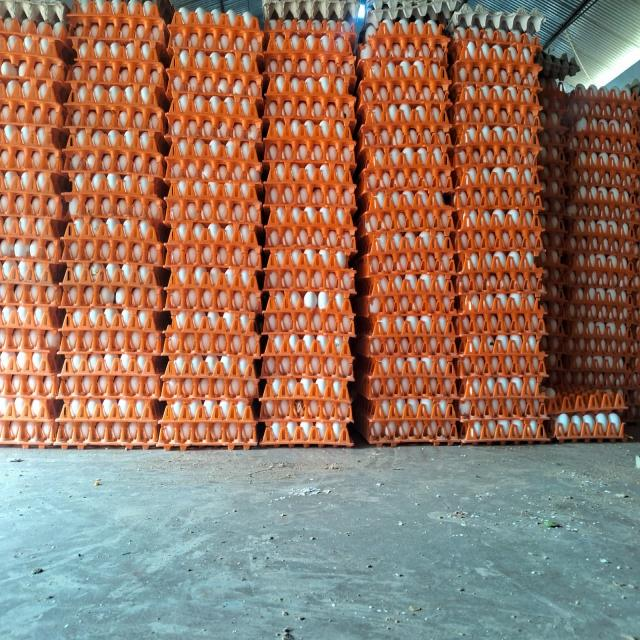egg_tray: (56, 6, 165, 446), (158, 11, 262, 447), (356, 21, 455, 442), (261, 21, 354, 444), (452, 31, 544, 441), (0, 19, 68, 445), (162, 159, 261, 445), (58, 173, 162, 445), (160, 180, 260, 447), (160, 182, 260, 446), (356, 191, 456, 441), (58, 217, 163, 445), (262, 205, 354, 443), (567, 88, 636, 387), (262, 205, 354, 421), (356, 243, 455, 437), (265, 120, 354, 333), (60, 261, 162, 443), (569, 90, 636, 367), (266, 21, 354, 227), (63, 129, 163, 310), (261, 249, 354, 443), (65, 41, 165, 220), (262, 249, 354, 443), (65, 41, 165, 217), (262, 249, 354, 439), (457, 247, 545, 440), (457, 247, 545, 438), (265, 21, 355, 206), (452, 76, 539, 252), (62, 167, 164, 311), (0, 81, 63, 307), (264, 118, 354, 273), (262, 291, 354, 441), (158, 311, 258, 448), (158, 310, 258, 447), (158, 311, 257, 448), (358, 177, 454, 315), (66, 3, 168, 132), (168, 11, 262, 145), (166, 138, 262, 269), (450, 30, 540, 168), (168, 9, 262, 141), (166, 163, 260, 295), (355, 190, 454, 314), (452, 78, 540, 217), (456, 189, 542, 329), (454, 163, 542, 294), (0, 20, 68, 187), (0, 257, 60, 445), (356, 206, 455, 317), (456, 169, 542, 294), (0, 261, 59, 443), (166, 83, 261, 195), (260, 331, 352, 445), (358, 313, 455, 421), (264, 24, 355, 137), (457, 327, 546, 441), (60, 309, 159, 411), (63, 128, 164, 227), (55, 352, 160, 447), (358, 191, 452, 294), (537, 79, 568, 389), (158, 354, 257, 449), (62, 216, 162, 310), (66, 41, 166, 132), (358, 23, 448, 123), (165, 219, 260, 313), (166, 54, 262, 147), (356, 355, 456, 444), (452, 84, 540, 185), (60, 308, 160, 396), (0, 81, 62, 219), (451, 83, 540, 179), (568, 87, 638, 208), (164, 309, 258, 399), (168, 13, 262, 103), (167, 53, 262, 142), (263, 291, 354, 383), (451, 79, 540, 172), (166, 227, 259, 314), (0, 109, 64, 235), (566, 270, 634, 388), (264, 114, 353, 203), (265, 181, 355, 267), (458, 331, 544, 419), (0, 19, 70, 127), (264, 248, 354, 332), (167, 73, 262, 148), (358, 58, 450, 135), (567, 220, 636, 321), (262, 75, 355, 146), (264, 21, 355, 93), (263, 67, 354, 137), (63, 127, 164, 187), (358, 101, 450, 166), (0, 191, 63, 285), (264, 117, 356, 181), (567, 202, 636, 286), (0, 170, 62, 263), (0, 79, 64, 169), (165, 137, 262, 196), (460, 373, 544, 441), (538, 79, 568, 267), (0, 349, 58, 446), (452, 83, 540, 146), (62, 171, 164, 225), (450, 27, 541, 87), (0, 304, 58, 398), (458, 318, 544, 381), (263, 116, 356, 174), (168, 45, 261, 103), (264, 31, 354, 90), (67, 0, 173, 50), (66, 79, 164, 132), (356, 146, 452, 200), (356, 147, 452, 201), (68, 40, 165, 92), (168, 7, 262, 60), (358, 96, 449, 149), (356, 105, 450, 156), (66, 0, 168, 47), (165, 181, 261, 230), (264, 159, 356, 209), (358, 17, 448, 68), (0, 167, 64, 237), (0, 211, 60, 285), (265, 20, 355, 67), (358, 20, 448, 67), (0, 21, 68, 82), (548, 389, 626, 441), (568, 151, 636, 203), (0, 170, 64, 225), (568, 85, 638, 135), (448, 4, 544, 38), (538, 179, 566, 287), (265, 17, 356, 50), (538, 75, 570, 165), (264, 16, 356, 46), (540, 283, 566, 388), (624, 257, 640, 423), (624, 259, 640, 423), (0, 17, 69, 54), (624, 267, 640, 423), (552, 407, 625, 441), (364, 0, 463, 25), (263, 0, 360, 23), (0, 123, 60, 159), (474, 333, 538, 365), (0, 124, 58, 151), (0, 0, 68, 23), (536, 51, 578, 81), (624, 355, 640, 423), (624, 356, 640, 423), (624, 359, 640, 423), (0, 289, 54, 305), (458, 151, 517, 165), (265, 140, 306, 160), (302, 214, 344, 233), (422, 279, 446, 311), (0, 289, 54, 303), (460, 233, 494, 252), (265, 145, 307, 160), (287, 89, 323, 105), (301, 189, 338, 204), (310, 283, 330, 310), (332, 287, 352, 313), (366, 0, 405, 13), (2, 283, 36, 297), (195, 225, 218, 245), (205, 141, 240, 154), (371, 301, 408, 313), (332, 246, 352, 268), (268, 261, 284, 288), (168, 237, 192, 255), (286, 271, 316, 285), (130, 132, 154, 149), (170, 68, 192, 86), (514, 381, 539, 396), (298, 121, 322, 136), (456, 144, 486, 156), (328, 89, 350, 105), (310, 149, 338, 161), (421, 165, 446, 178), (411, 0, 431, 16), (36, 245, 56, 259), (426, 237, 447, 250), (220, 141, 239, 155), (72, 130, 92, 143), (37, 282, 54, 297), (504, 237, 520, 252), (288, 97, 322, 104), (246, 183, 258, 202), (482, 210, 502, 221), (266, 81, 274, 108), (38, 247, 56, 259), (171, 176, 187, 189), (324, 124, 336, 139), (514, 351, 532, 361), (414, 191, 429, 203), (381, 322, 392, 338), (99, 433, 116, 443), (50, 96, 60, 113), (168, 383, 180, 397), (298, 96, 322, 103), (88, 310, 100, 324), (397, 191, 411, 203), (395, 327, 408, 339), (300, 423, 311, 437), (546, 289, 560, 300), (10, 178, 26, 187), (326, 149, 340, 159), (84, 433, 98, 443), (634, 107, 640, 130), (462, 341, 473, 353), (272, 219, 294, 225), (510, 294, 522, 305), (631, 83, 640, 97), (388, 15, 409, 21), (403, 210, 414, 221), (2, 236, 10, 251), (176, 198, 188, 208), (212, 71, 227, 79), (405, 135, 418, 144), (634, 324, 638, 353), (420, 276, 434, 284), (296, 235, 307, 245), (152, 207, 161, 219), (318, 258, 328, 268), (20, 247, 30, 257), (636, 172, 640, 197), (380, 193, 390, 203), (437, 88, 446, 99), (273, 217, 284, 226), (508, 283, 522, 290), (309, 153, 321, 161), (307, 258, 316, 268), (522, 154, 532, 163), (406, 231, 421, 237), (496, 256, 504, 267), (512, 256, 520, 267), (102, 404, 110, 415), (122, 132, 129, 144), (430, 429, 442, 436), (272, 227, 286, 233), (522, 294, 534, 301), (532, 317, 542, 325), (52, 314, 58, 327), (0, 172, 7, 183), (48, 235, 57, 243), (478, 243, 490, 249), (471, 383, 478, 393), (514, 256, 520, 267), (44, 184, 52, 192), (186, 296, 194, 304), (276, 247, 284, 255), (186, 386, 193, 395), (156, 31, 163, 40), (173, 299, 179, 309), (274, 263, 280, 273), (496, 293, 506, 299), (203, 299, 210, 307), (292, 294, 297, 305), (105, 311, 110, 322), (499, 256, 504, 267), (576, 90, 582, 99), (2, 262, 8, 271), (470, 209, 476, 218), (170, 71, 174, 84), (428, 175, 441, 179), (475, 425, 480, 435), (225, 141, 235, 146), (87, 16, 94, 23), (434, 149, 440, 157), (454, 39, 460, 47), (6, 195, 14, 201), (634, 333, 638, 345), (409, 275, 417, 281), (316, 239, 324, 245), (110, 416, 122, 420), (327, 82, 332, 91), (398, 291, 405, 297), (576, 323, 583, 329), (87, 133, 94, 139), (459, 245, 466, 251), (186, 229, 192, 236), (350, 115, 354, 125), (26, 182, 34, 187), (301, 287, 306, 295), (24, 249, 29, 257), (416, 237, 421, 245), (338, 413, 344, 419), (280, 155, 289, 159), (520, 212, 529, 216), (380, 141, 389, 145), (152, 155, 158, 161), (28, 241, 34, 247), (170, 161, 176, 167), (394, 431, 400, 437), (390, 167, 396, 173), (332, 83, 339, 88), (204, 216, 211, 221), (458, 216, 463, 223), (459, 246, 466, 251), (330, 433, 338, 437), (462, 211, 466, 219), (342, 157, 350, 161), (336, 317, 340, 325), (634, 325, 638, 333), (150, 134, 156, 139), (469, 209, 474, 215), (95, 148, 100, 154), (118, 134, 124, 139), (23, 235, 28, 241), (58, 27, 63, 33), (460, 321, 466, 326), (266, 238, 270, 245), (309, 97, 318, 100), (290, 433, 295, 438), (300, 94, 305, 99), (13, 242, 18, 247), (16, 87, 21, 92), (404, 276, 409, 281), (274, 431, 279, 436), (389, 152, 394, 157), (528, 211, 534, 215), (608, 345, 611, 353), (288, 97, 294, 101), (636, 145, 640, 151), (522, 45, 528, 49), (118, 345, 126, 348), (0, 85, 3, 93), (142, 363, 146, 369), (376, 239, 380, 245), (318, 291, 322, 297), (322, 257, 326, 263), (308, 227, 314, 231), (489, 383, 492, 391), (0, 129, 2, 140), (211, 88, 218, 91), (15, 93, 18, 100), (68, 142, 72, 147), (420, 283, 424, 288), (513, 209, 518, 213), (278, 147, 282, 152), (528, 174, 532, 179), (51, 191, 56, 195), (470, 219, 474, 224), (170, 71, 172, 81), (22, 325, 27, 329), (366, 207, 370, 212), (376, 200, 380, 205), (317, 263, 322, 267), (292, 243, 297, 247), (86, 415, 91, 419), (513, 286, 518, 290), (309, 128, 312, 134), (190, 371, 196, 374), (563, 163, 566, 169), (524, 254, 530, 257), (230, 67, 233, 73), (28, 327, 34, 330), (314, 255, 317, 261), (68, 414, 74, 417), (506, 146, 509, 152), (118, 345, 126, 347), (342, 405, 346, 409), (370, 298, 374, 302), (340, 137, 348, 139), (225, 204, 229, 208), (464, 355, 468, 359), (252, 241, 256, 245), (192, 183, 196, 187), (490, 256, 494, 260), (214, 276, 218, 280), (310, 244, 314, 248), (372, 157, 376, 161), (500, 147, 504, 151), (530, 320, 534, 324), (520, 313, 523, 318), (130, 425, 135, 428), (462, 47, 467, 50), (504, 233, 509, 236), (484, 211, 489, 214), (461, 256, 466, 259), (444, 432, 449, 435), (409, 167, 412, 172), (377, 159, 380, 164), (119, 345, 126, 347), (471, 337, 478, 339), (523, 255, 530, 257), (3, 263, 5, 270), (390, 233, 404, 234), (361, 153, 368, 155), (507, 169, 514, 171), (274, 432, 278, 435), (266, 270, 268, 276), (409, 217, 412, 221), (406, 212, 410, 215), (20, 185, 23, 189), (496, 235, 499, 239), (290, 136, 294, 139), (210, 195, 214, 198), (396, 141, 399, 145), (36, 203, 39, 207), (330, 97, 336, 99), (304, 320, 307, 324), (305, 267, 308, 271), (346, 159, 352, 161), (55, 161, 58, 165), (490, 425, 494, 428), (336, 295, 340, 298), (396, 433, 400, 436), (428, 229, 432, 232), (298, 283, 302, 286), (325, 251, 328, 255), (292, 211, 295, 215), (398, 154, 402, 157), (510, 286, 513, 290), (270, 157, 275, 159), (294, 130, 296, 135), (323, 173, 328, 175), (274, 317, 276, 322), (292, 109, 294, 114), (518, 319, 523, 321), (384, 228, 387, 231), (432, 220, 435, 223), (7, 185, 10, 188), (103, 136, 106, 139), (349, 97, 352, 100), (228, 192, 231, 195), (104, 344, 107, 347), (25, 271, 28, 274), (377, 433, 380, 436), (341, 146, 344, 149), (524, 326, 527, 329), (503, 322, 506, 325), (463, 317, 466, 320), (346, 221, 350, 223), (176, 372, 180, 374), (70, 135, 72, 139), (464, 323, 466, 327), (350, 187, 352, 191), (248, 236, 250, 240), (130, 431, 132, 435), (158, 245, 160, 249), (292, 309, 294, 313), (322, 125, 326, 127), (564, 157, 566, 161), (530, 71, 534, 73), (370, 20, 374, 22), (330, 97, 332, 101), (124, 99, 126, 103), (308, 263, 312, 265), (277, 259, 281, 261), (300, 247, 304, 249), (370, 152, 374, 154), (464, 174, 468, 176), (522, 313, 529, 314), (406, 300, 408, 303), (403, 217, 406, 219), (180, 368, 182, 371), (481, 322, 484, 324), (362, 308, 364, 311), (292, 97, 294, 100), (26, 229, 28, 232), (41, 141, 44, 143), (39, 134, 42, 136), (158, 263, 161, 265), (563, 153, 566, 155), (487, 264, 490, 266), (463, 256, 465, 259), (62, 56, 65, 58), (535, 215, 536, 221), (28, 90, 30, 93), (405, 425, 408, 427), (332, 97, 335, 99), (96, 338, 98, 341), (500, 285, 503, 287), (630, 109, 632, 112), (178, 230, 180, 233), (496, 313, 498, 316), (242, 142, 248, 143), (292, 212, 294, 214), (320, 434, 322, 436), (152, 151, 154, 153), (368, 151, 372, 152), (214, 201, 216, 203), (478, 319, 480, 321), (274, 309, 276, 311), (12, 251, 16, 252), (38, 242, 42, 243), (274, 326, 276, 328), (138, 424, 140, 426), (172, 62, 174, 64), (44, 239, 46, 241), (558, 177, 560, 179), (488, 221, 490, 223), (492, 433, 493, 437), (636, 347, 637, 351), (522, 266, 524, 268), (459, 216, 460, 220), (404, 433, 406, 435), (288, 233, 290, 235), (341, 228, 342, 232), (366, 149, 368, 151), (72, 420, 76, 421), (470, 395, 472, 397), (289, 427, 290, 430), (320, 325, 321, 328), (103, 243, 104, 246), (531, 220, 534, 221), (149, 371, 152, 372), (273, 424, 276, 425), (104, 346, 106, 347), (302, 213, 304, 214), (288, 427, 289, 429), (117, 132, 119, 133), (92, 132, 94, 133), (171, 10, 172, 12), (530, 194, 532, 195), (44, 240, 46, 241), (540, 313, 541, 315), (226, 143, 228, 144), (580, 278, 582, 279), (342, 313, 343, 315), (202, 82, 204, 83), (14, 156, 16, 157), (8, 153, 9, 155), (541, 160, 543, 161), (188, 182, 190, 183), (212, 142, 213, 144), (152, 20, 153, 22), (90, 14, 92, 15), (102, 7, 104, 8), (493, 71, 495, 72), (3, 198, 5, 199), (224, 302, 226, 303), (423, 434, 425, 435), (396, 278, 398, 279), (131, 371, 133, 372), (397, 416, 399, 417), (296, 113, 297, 115), (375, 152, 377, 153), (393, 149, 395, 150), (156, 349, 158, 350), (400, 248, 402, 249), (206, 248, 208, 249), (289, 420, 290, 421), (507, 234, 508, 235), (478, 216, 479, 217), (111, 158, 112, 159), (0, 151, 1, 152), (198, 285, 199, 286), (47, 94, 48, 95), (397, 416, 398, 417), (387, 403, 388, 404), (294, 249, 295, 250), (271, 216, 272, 217), (338, 25, 339, 26), (358, 313, 359, 314), (276, 390, 276, 391), (266, 314, 266, 315), (266, 279, 266, 282), (274, 269, 274, 270), (447, 307, 447, 307), (399, 301, 399, 301), (417, 282, 417, 284), (450, 220, 450, 222), (303, 158, 303, 159), (336, 67, 336, 69), (234, 369, 234, 370), (392, 143, 392, 143), (441, 45, 442, 45), (444, 39, 446, 39), (68, 156, 68, 157), (125, 147, 125, 148), (125, 134, 125, 135), (536, 313, 536, 314), (296, 96, 296, 97), (503, 346, 503, 348), (313, 329, 318, 329), (268, 307, 268, 309), (281, 260, 281, 261), (267, 103, 267, 107), (20, 241, 22, 241), (45, 218, 45, 220), (258, 76, 258, 77), (214, 76, 214, 77), (120, 425, 122, 425), (188, 61, 188, 62), (247, 54, 247, 55), (179, 209, 179, 210), (254, 149, 254, 153), (204, 147, 209, 147), (463, 212, 463, 215), (0, 205, 1, 205), (368, 25, 368, 25), (494, 218, 494, 219), (233, 63, 234, 63), (238, 309, 240, 309), (177, 283, 177, 285), (253, 165, 254, 165), (492, 256, 492, 258), (532, 247, 534, 247), (525, 221, 527, 221), (503, 220, 503, 221), (45, 281, 45, 281), (25, 270, 25, 271), (268, 307, 268, 308), (283, 123, 283, 123), (23, 99, 23, 99), (10, 83, 10, 83), (274, 238, 274, 240), (333, 103, 335, 103), (143, 100, 143, 102), (388, 434, 388, 435), (274, 283, 276, 283), (287, 276, 287, 277), (332, 258, 332, 259), (299, 251, 299, 252), (320, 245, 321, 245), (278, 229, 280, 229), (285, 241, 285, 241), (283, 425, 285, 425), (445, 148, 445, 151), (92, 412, 92, 413), (120, 407, 122, 407), (110, 403, 114, 403), (534, 287, 534, 288), (613, 121, 615, 121), (70, 206, 70, 207), (505, 391, 505, 392)
